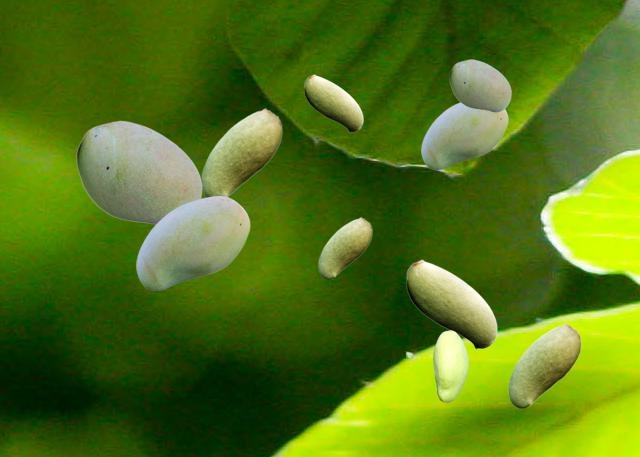green_mango: (76, 120, 201, 224), (136, 196, 249, 289), (406, 259, 496, 348), (201, 108, 281, 196), (508, 323, 580, 407), (421, 102, 507, 168), (304, 74, 362, 131), (318, 217, 371, 278), (449, 59, 510, 111), (433, 330, 467, 401)
